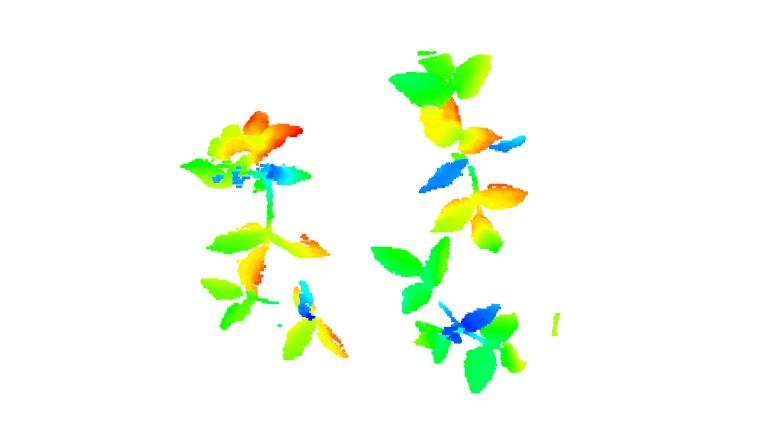mungbean: (390, 49, 533, 253), (179, 117, 335, 286), (373, 239, 528, 396), (199, 271, 348, 363)
